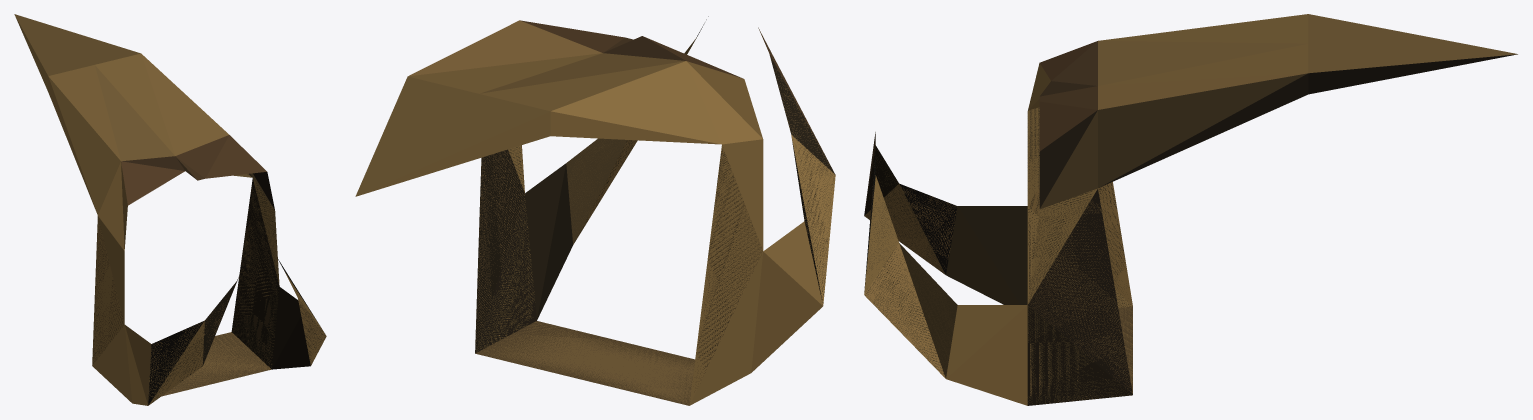
The model's file is splitbark-hat.obj.
3 views of the same model, side by side, from view 1: azimuth 30°, elevation 25°; view 2: azimuth 150°, elevation 25°; view 3: azimuth 270°, elevation 25° (orthographic). The views are drawn at different scales.
Parts seen in each view (by area): view 1: Item Splitbark helm 2026-09-24_18-04-36; view 2: Item Splitbark helm 2026-09-24_18-04-36; view 3: Item Splitbark helm 2026-09-24_18-04-36.
Part boxes in pixels (x1,y1,x2,y2): Item Splitbark helm 2026-09-24_18-04-36: (14, 14, 326, 405); Item Splitbark helm 2026-09-24_18-04-36: (355, 16, 835, 405); Item Splitbark helm 2026-09-24_18-04-36: (864, 14, 1517, 405).
Size of the model in its own units: 21 by 30 by 56.
